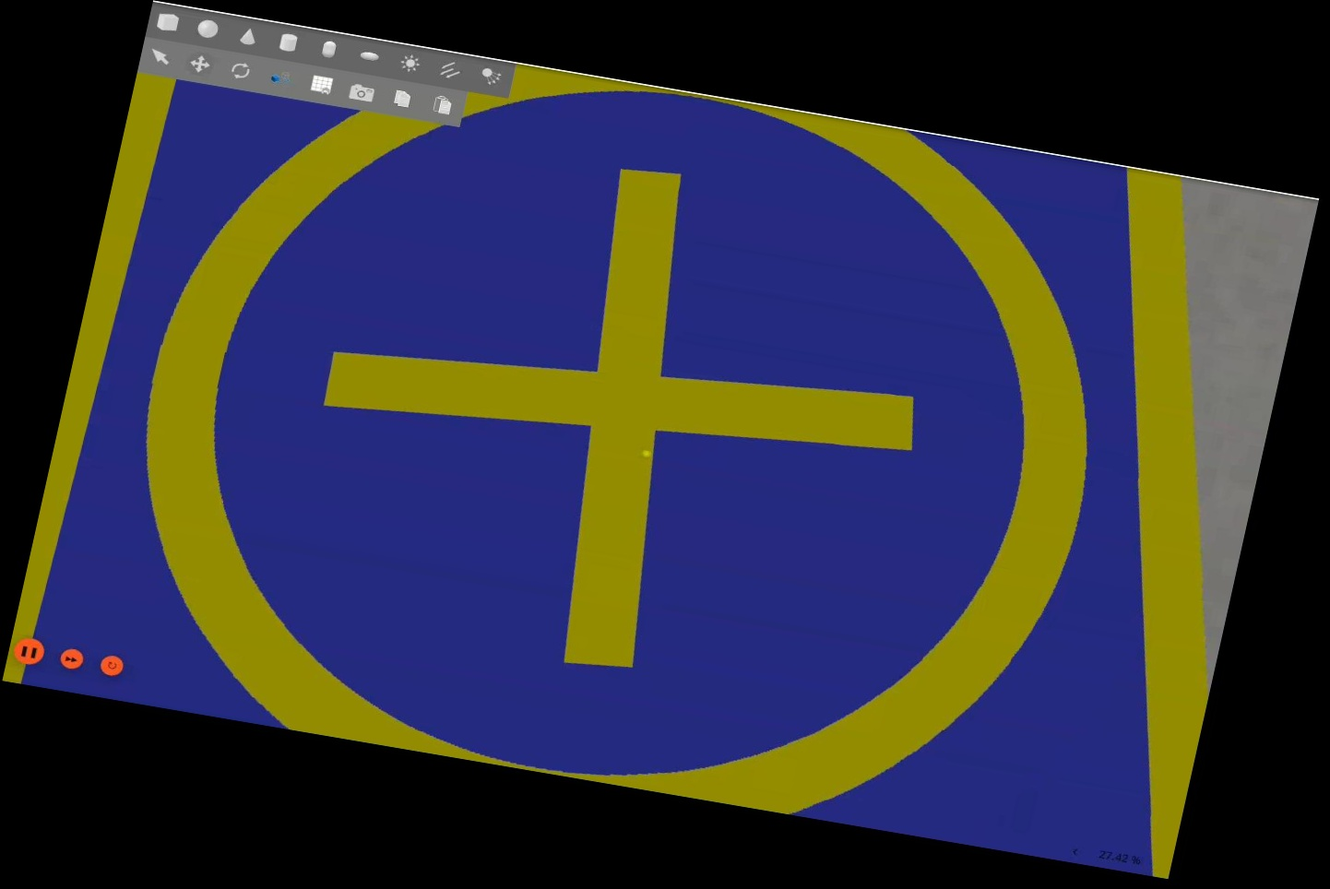small_base: (26, 6, 1321, 881)
